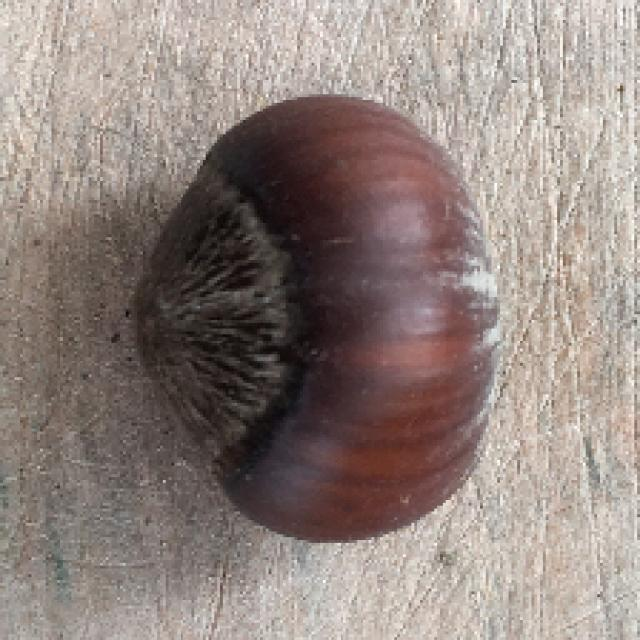damagedHazelnut: (134, 95, 516, 534)
